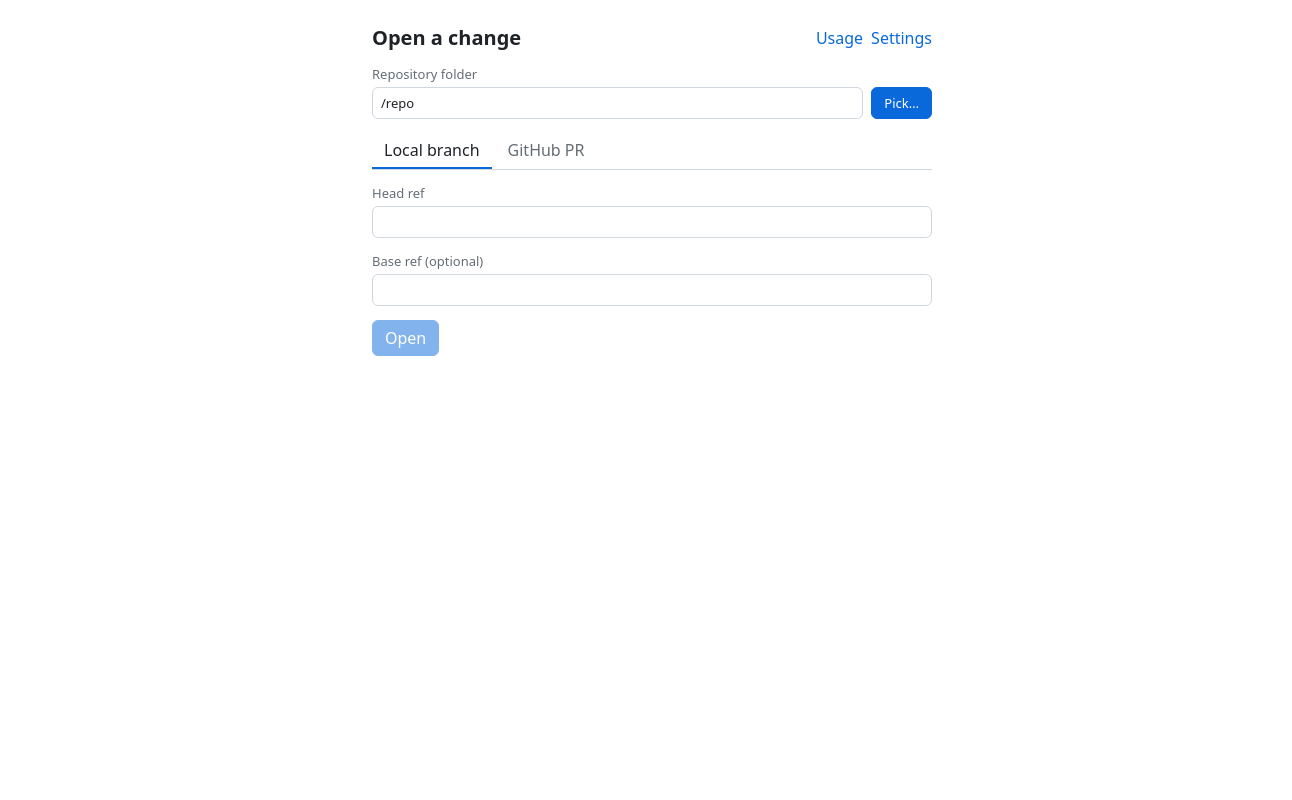
Test: regenerate from the walkthrough › an openTarget error stays on the walkthrough with a notice
Click the tab "GitHub PR" at (546, 151), box [496,133,596,169]
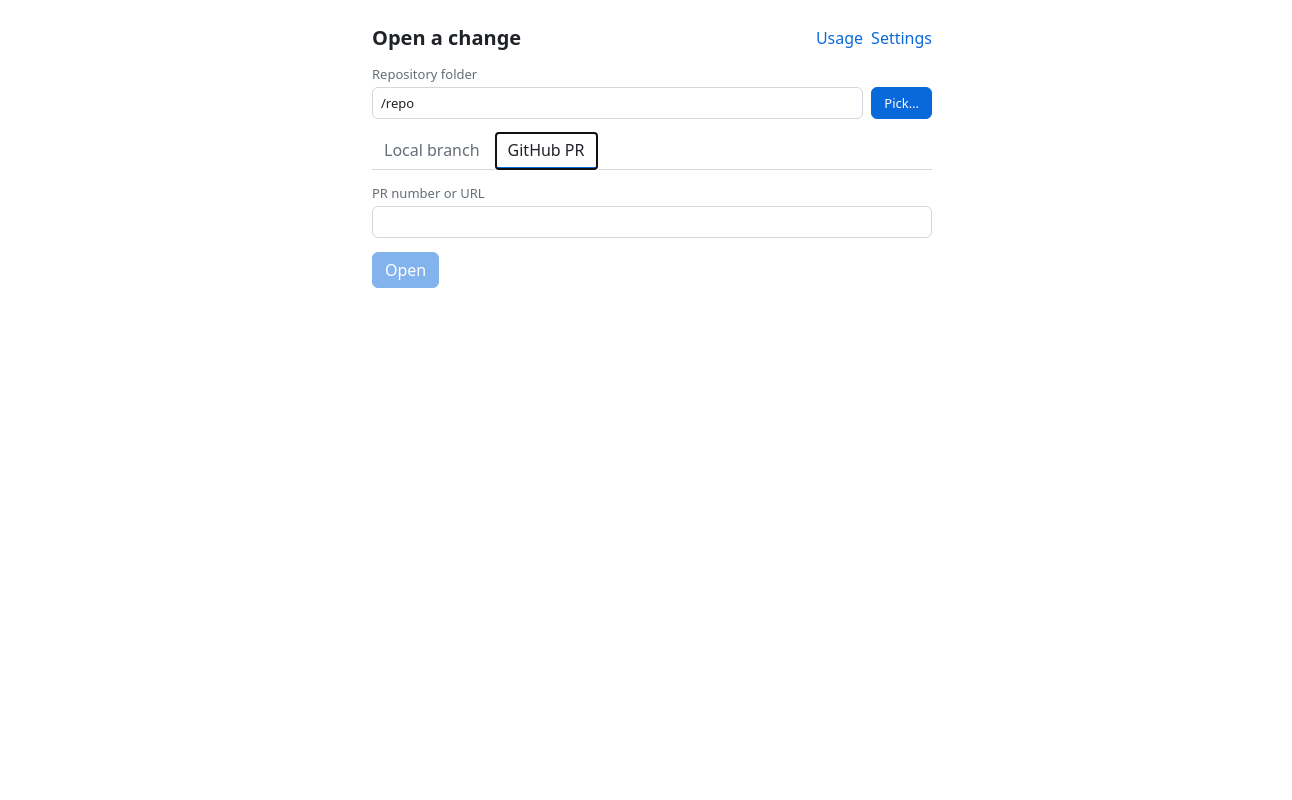
Type "7" into the field labelled "PR number or URL" at (652, 222), box [372,206,932,238]
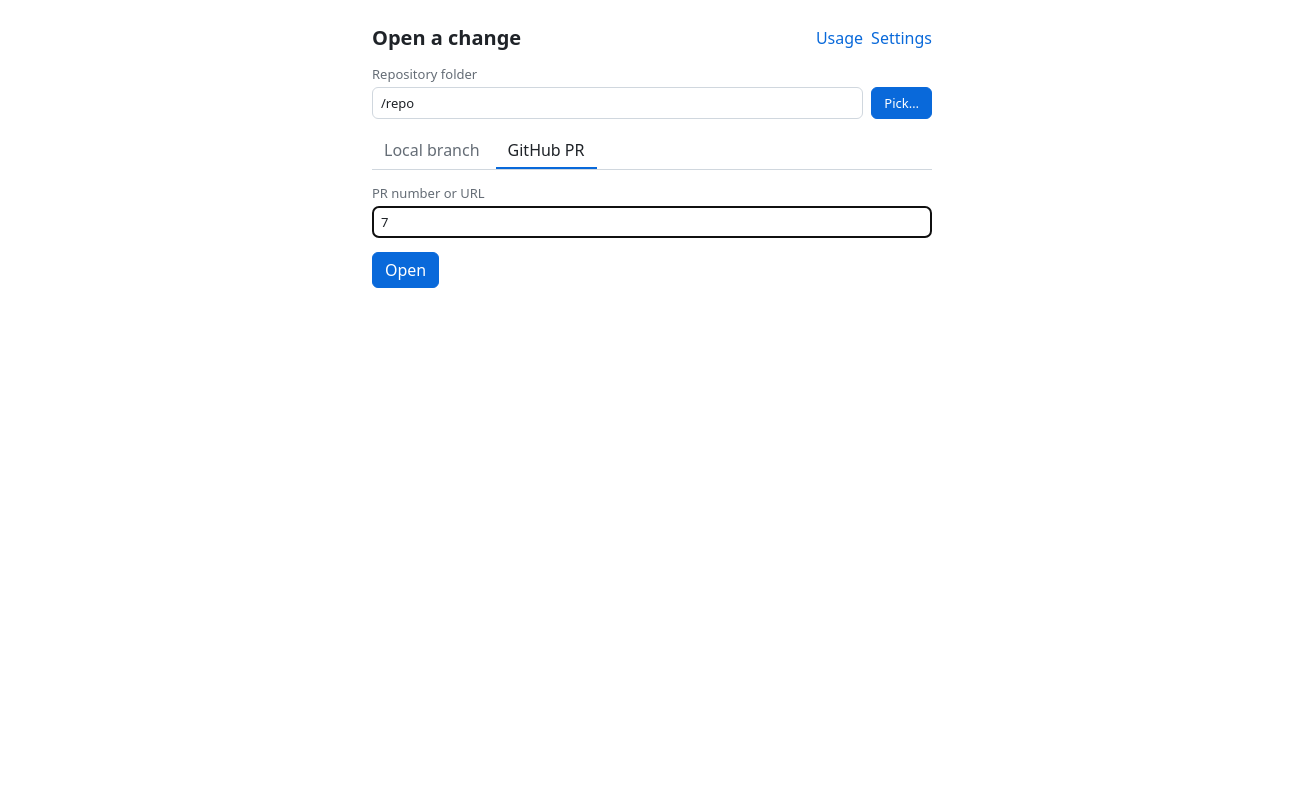
Click the button "Open" at (406, 270), box [372,252,439,288]
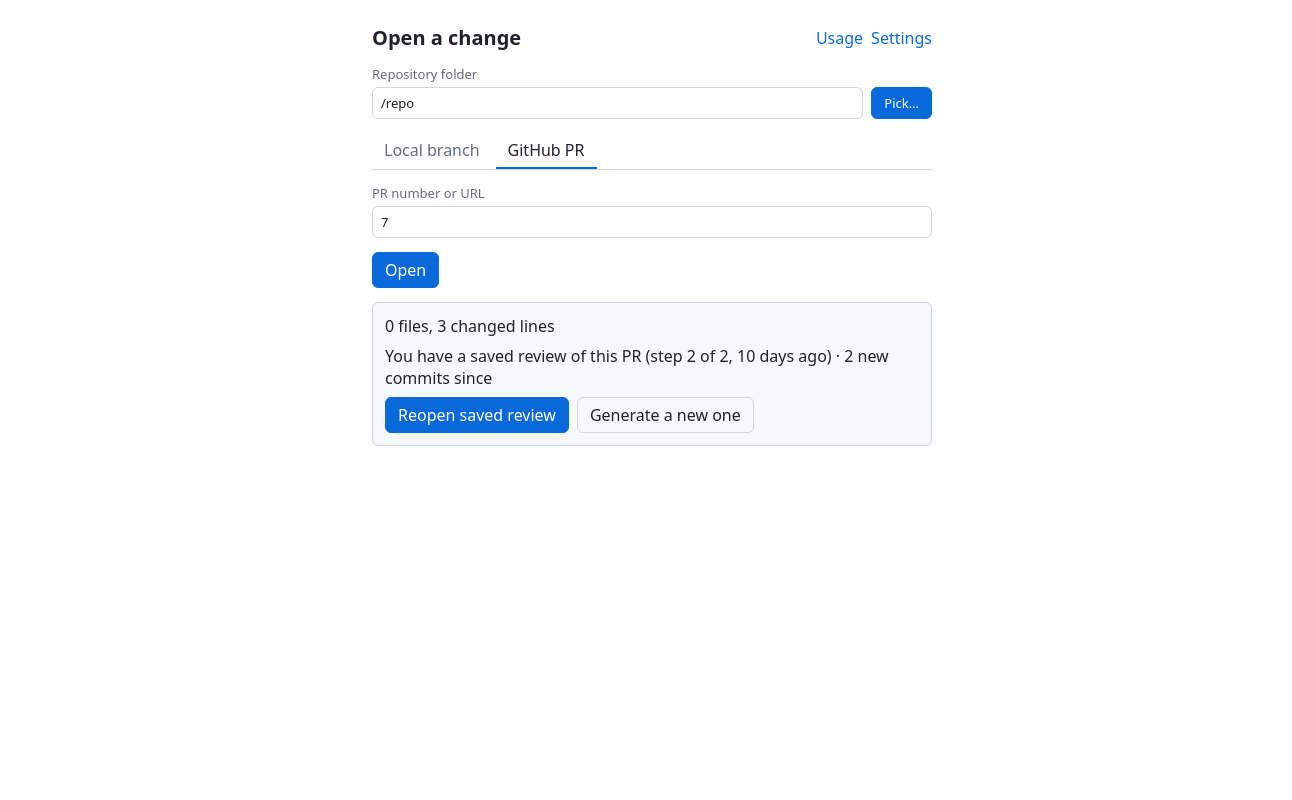
Click the button "Reopen saved review" at (477, 415), box [385,397,569,433]
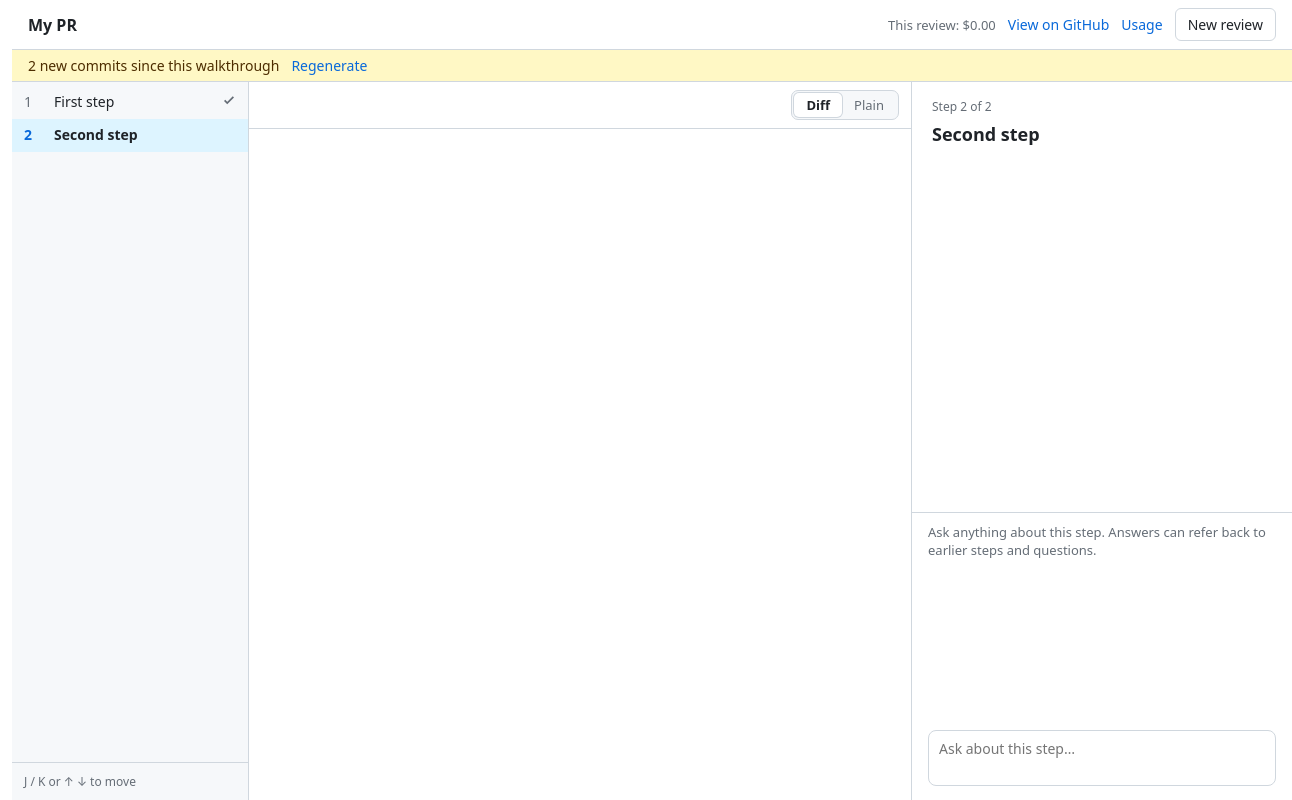
Click the button "Regenerate" at (329, 66), box [291,56,367,75]
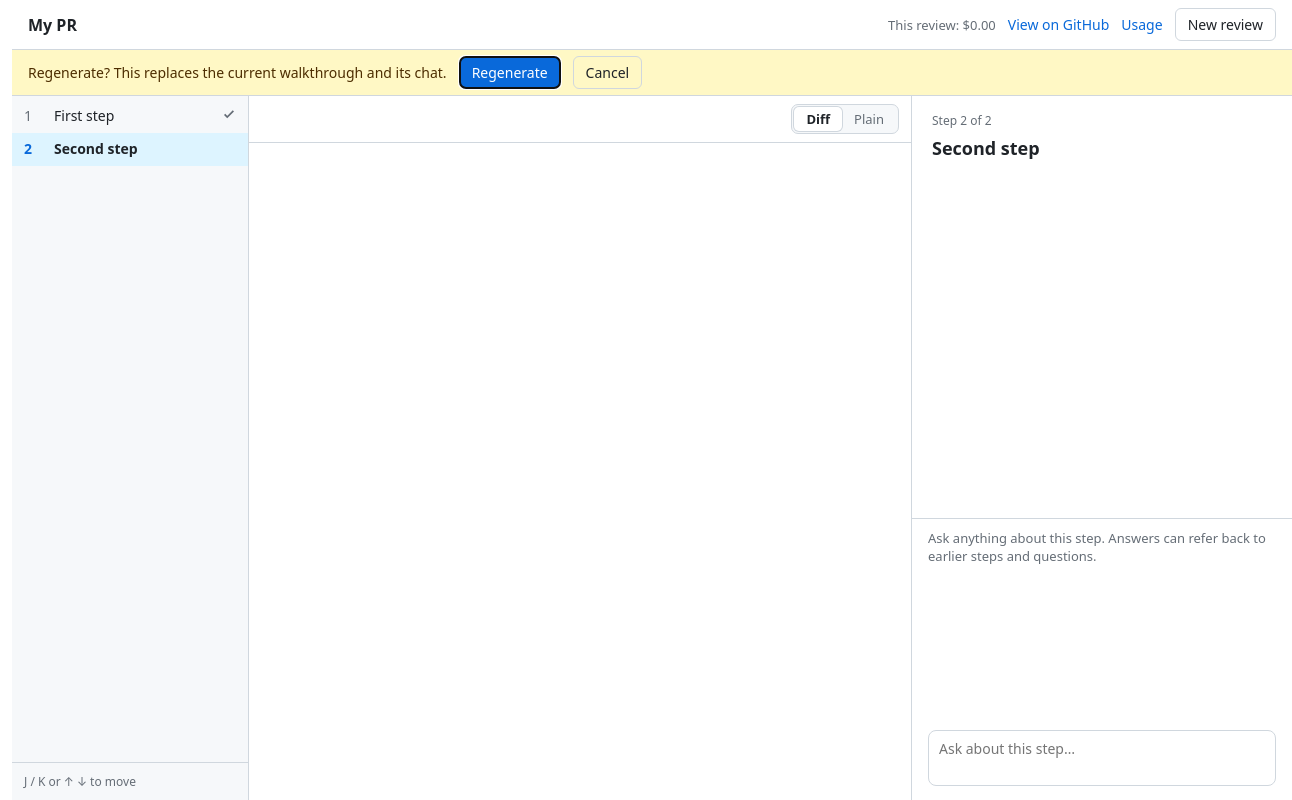
Click the button "Regenerate" at (510, 72), box [459,56,561,89]
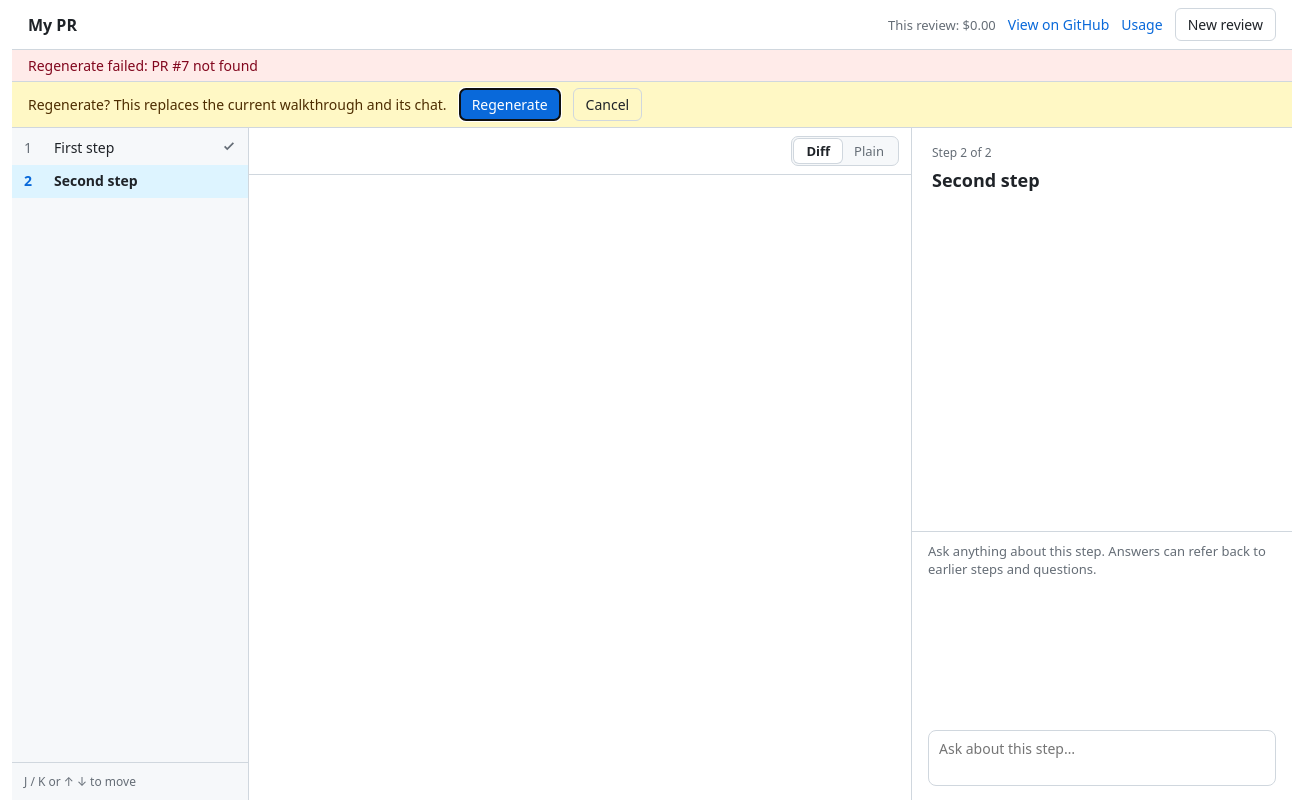
Result: the text "Step 2 of 2" is shown at [932,144,992,161]
Result: the message reads "Regenerate failed: PR #7 not found" at [28,56,258,75]
